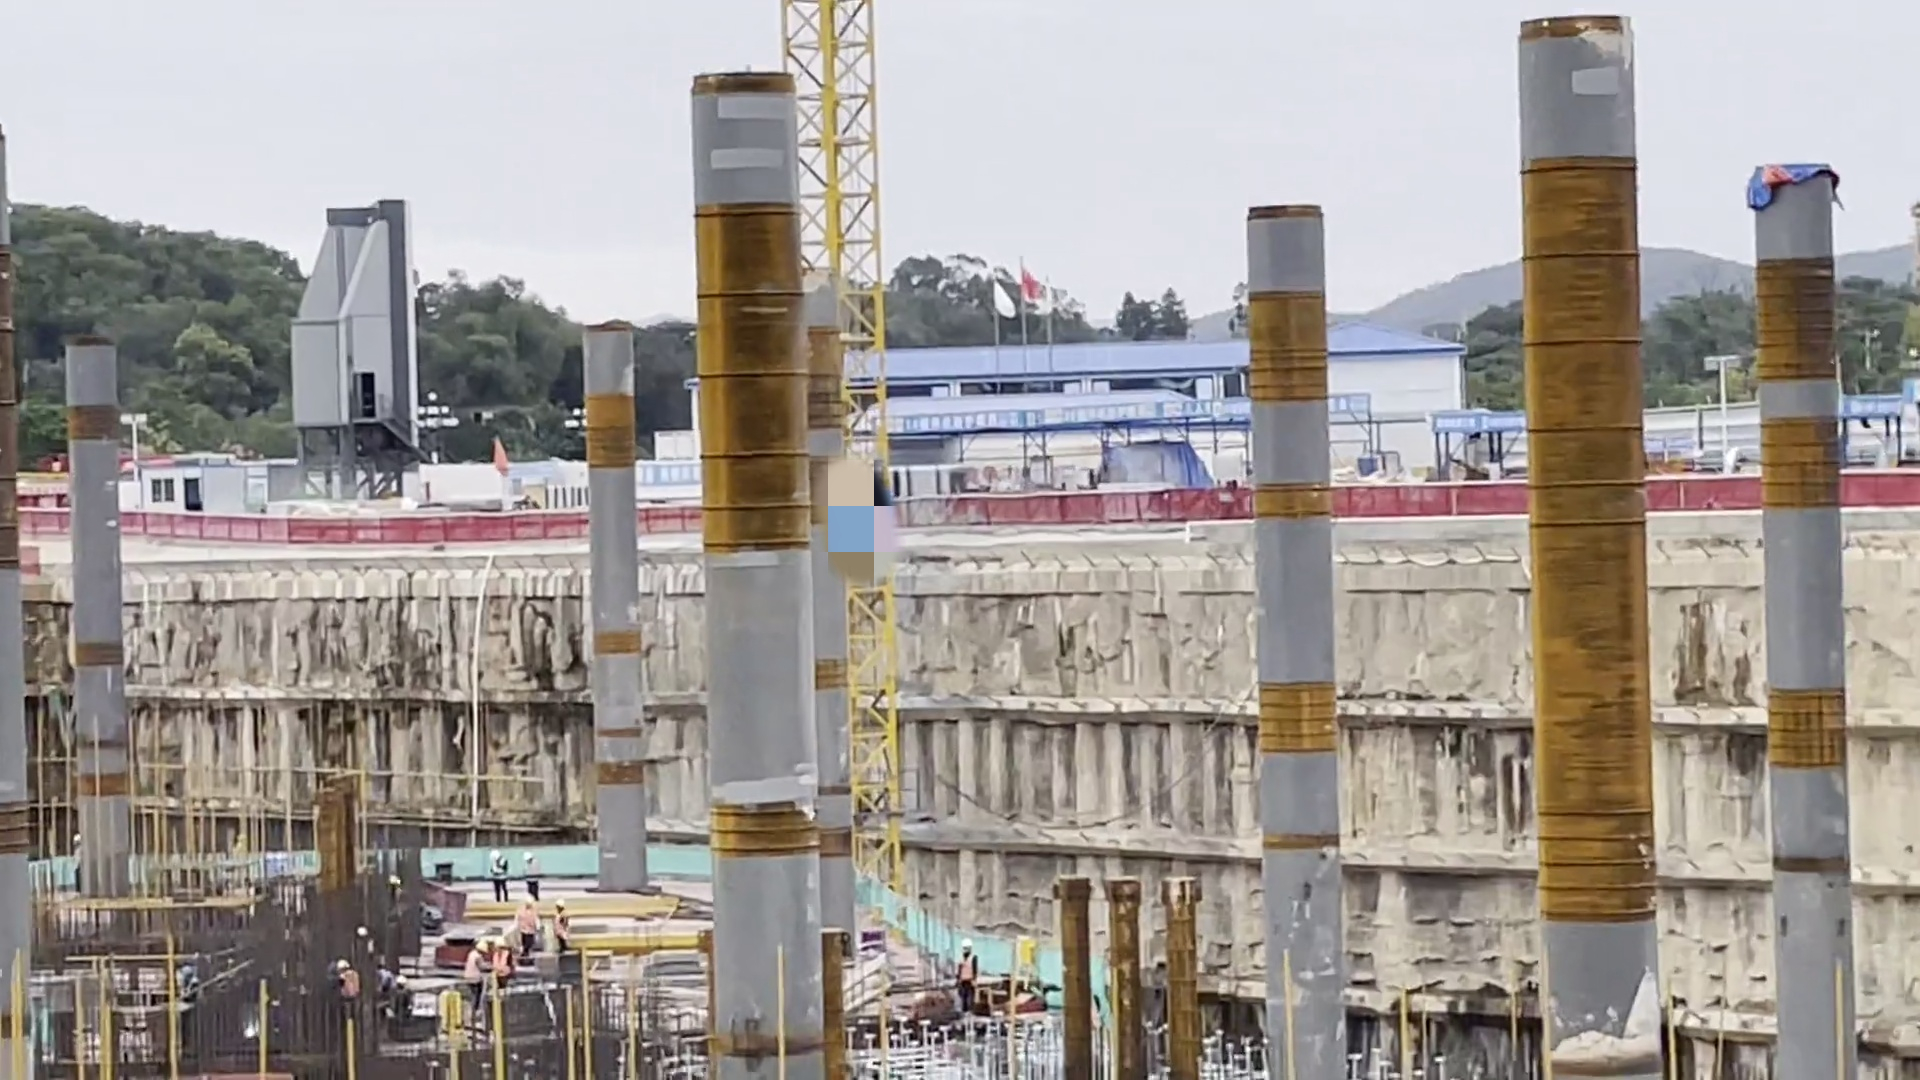ebox: (1012, 937, 1055, 986)
fence: (895, 465, 1920, 523), (22, 498, 715, 560)
helmet: (956, 933, 990, 963), (492, 933, 522, 963), (332, 954, 363, 976), (522, 848, 542, 876), (474, 937, 491, 954), (484, 844, 497, 861)
person: (455, 930, 505, 1035), (503, 841, 569, 918), (332, 946, 390, 1026), (478, 840, 538, 908), (512, 880, 546, 977), (547, 897, 586, 975), (488, 932, 529, 995), (956, 898, 977, 1016)
vest: (454, 948, 489, 994), (508, 903, 551, 933), (490, 946, 527, 980), (960, 961, 993, 989), (492, 859, 518, 889), (552, 904, 571, 947), (341, 970, 367, 1001), (526, 861, 553, 888)
